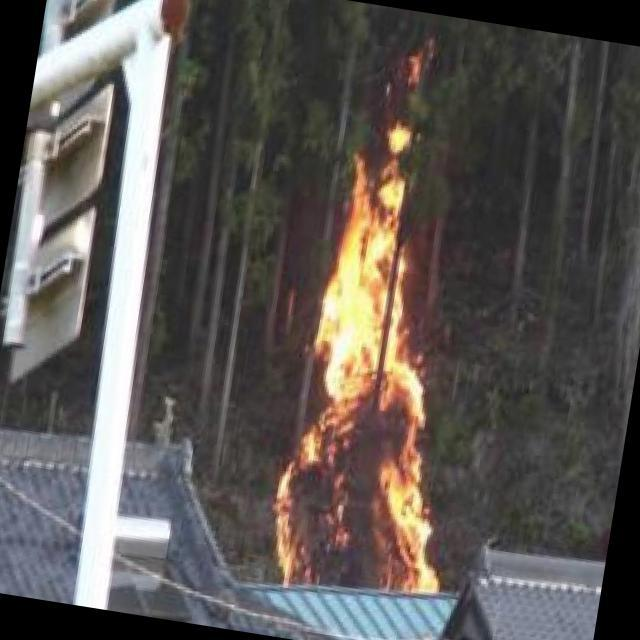Fire: (264, 147, 505, 608)
